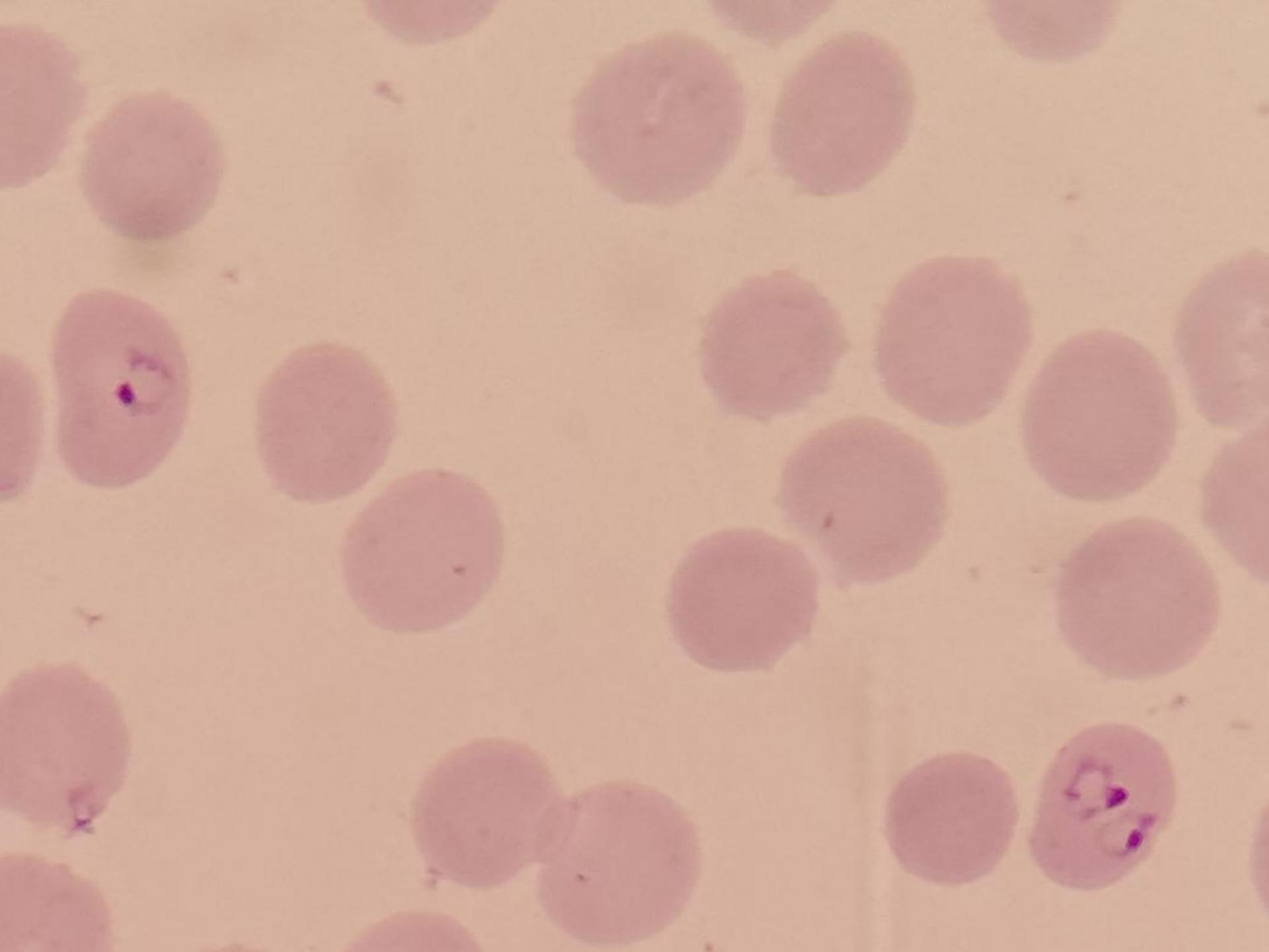Infected: (48, 286, 192, 484), (1026, 725, 1183, 892)
Uninfected: (573, 28, 744, 203), (876, 253, 1034, 429), (780, 412, 950, 575), (1023, 326, 1174, 503), (537, 782, 706, 940), (340, 473, 501, 632), (1058, 516, 1219, 674), (254, 336, 393, 503), (408, 739, 557, 890), (770, 35, 917, 188), (668, 529, 817, 674), (81, 94, 222, 241), (0, 673, 134, 826), (702, 273, 843, 418), (887, 749, 1018, 887), (1178, 245, 1269, 429)
